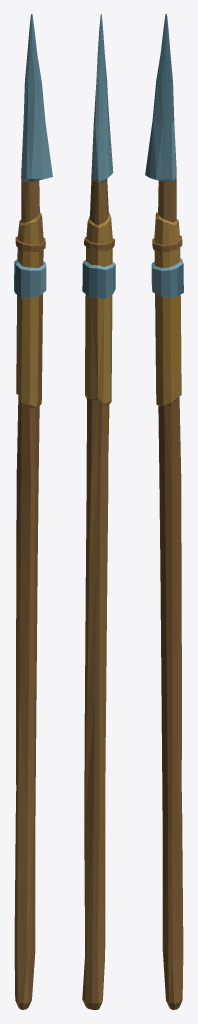
The model's file is spear.obj.
The picture shows the model from 3 angles, left to right: view 1: azimuth 90°, elevation 25°; view 2: azimuth 150°, elevation 25°; view 3: azimuth 270°, elevation 25°; orthographic projection.
Visible parts, largest first — view 1: spear_Material; view 2: spear_Material; view 3: spear_Material.
Boxes of the visible parts, x1,y1,x2,y2 form: spear_Material: (14,14,52,1009); spear_Material: (82,14,115,1009); spear_Material: (145,14,183,1009).
Bounding box in the file's own units: 0.058 × 1.95 × 0.0694.
